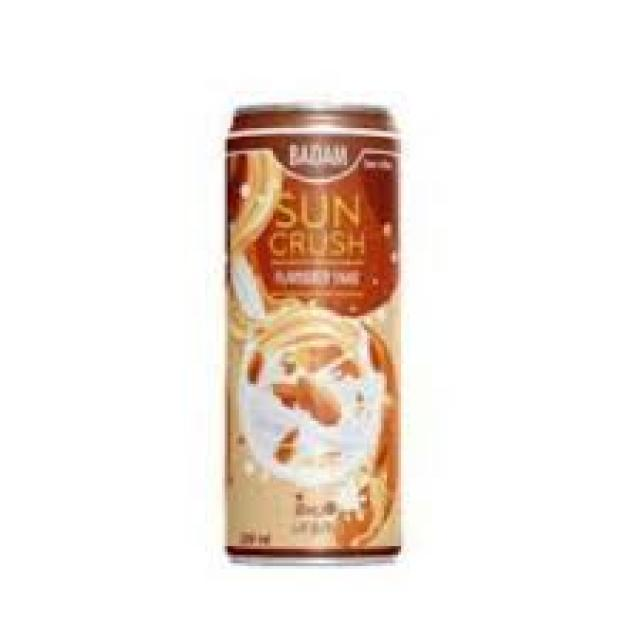Cans: (211, 88, 418, 578)
